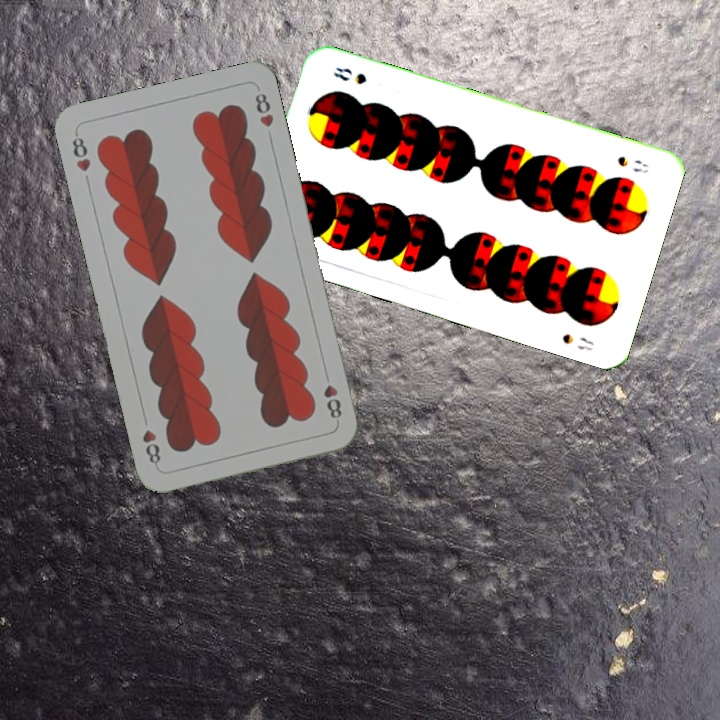H8: (319, 367, 344, 425), (68, 128, 94, 174)
S8: (613, 152, 651, 177)
